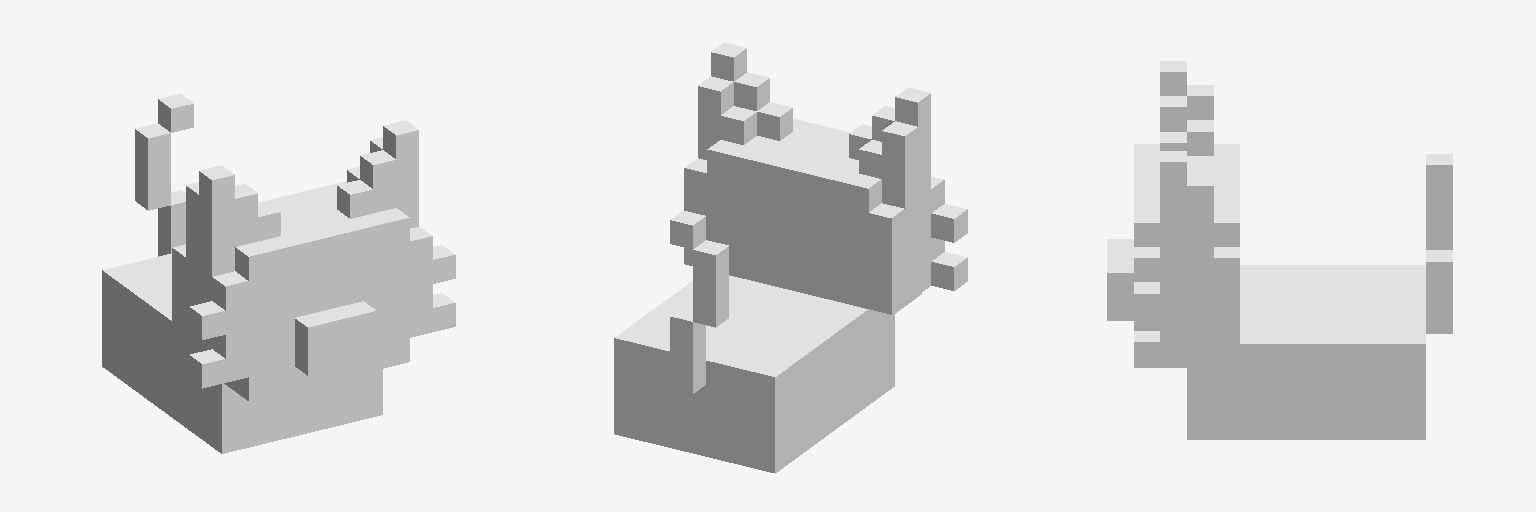
Rendered from CatPawless.obj.
3 renders of one model, left to right at view 1: azimuth 30°, elevation 25°; view 2: azimuth 150°, elevation 25°; view 3: azimuth 270°, elevation 25°, orthographic.
Parts seen in each view (by area): view 1: object 1; view 2: object 1; view 3: object 1.
Part boxes in pixels (left/top/right/bottom): object 1: left=102, top=94, right=455, bottom=453; object 1: left=614, top=42, right=967, bottom=473; object 1: left=1107, top=61, right=1452, bottom=439.
Size of the model in its own units: 1.1 by 1.2 by 1.3.